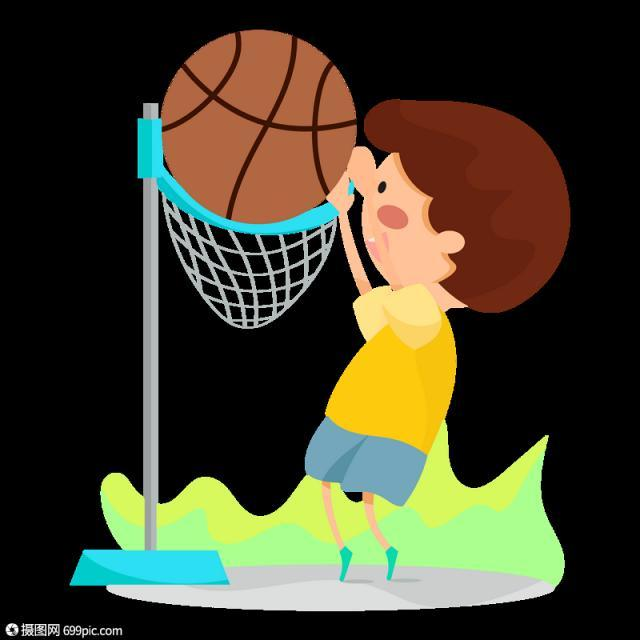rim: (160, 27, 354, 224)
